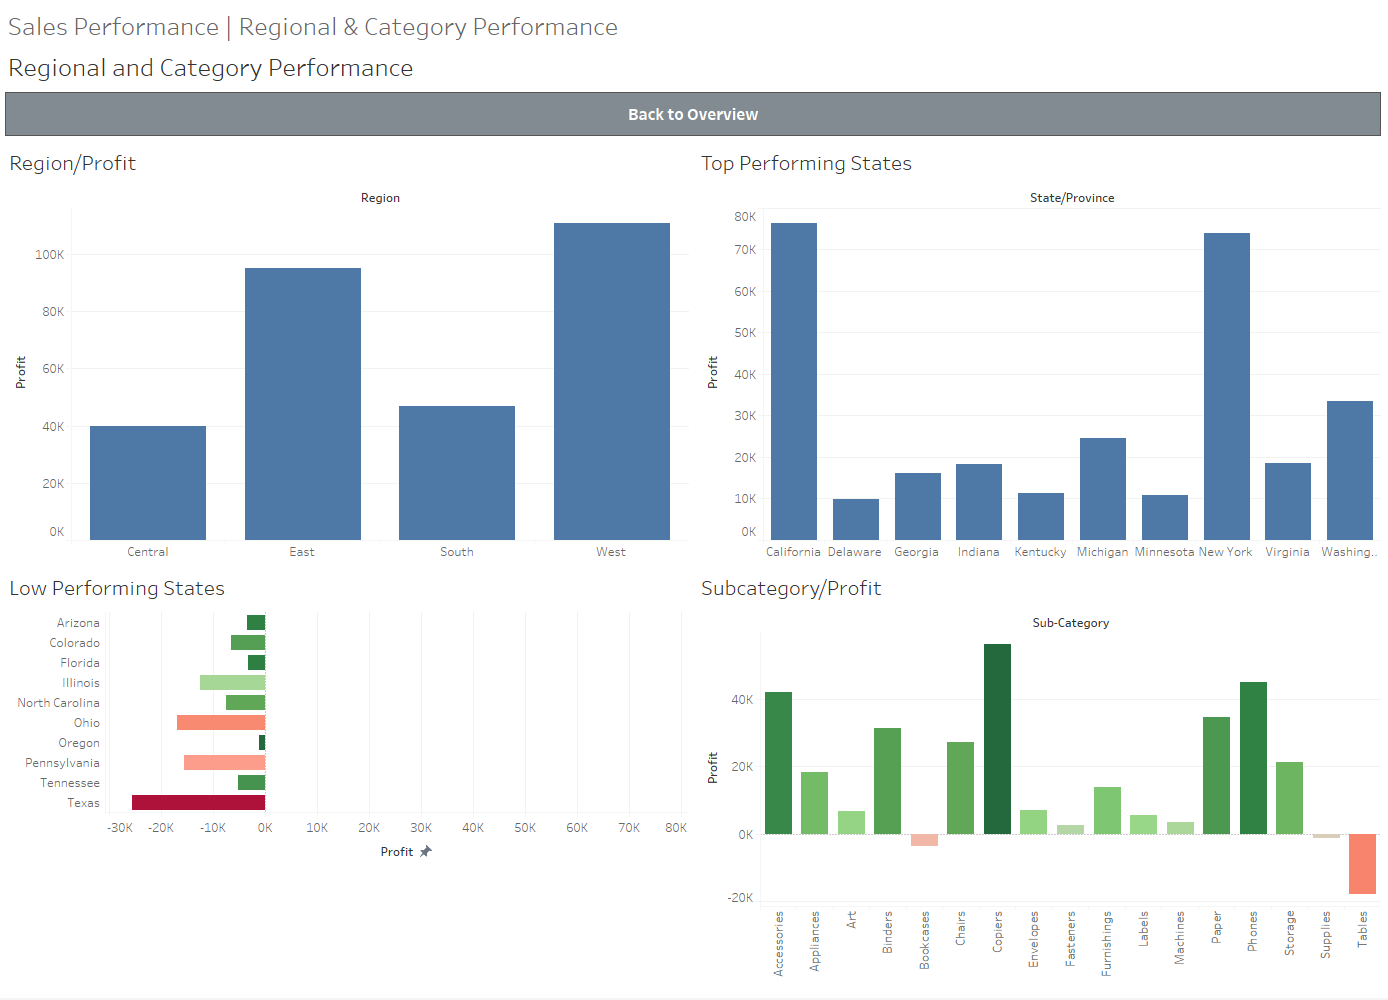

Layout of this report page (visuals, bound fields, positions):
{"tool":"tableau","page":{"name":"Regional and Category Performance","canvas":[1400,1000],"ordinal":2},"visuals":[{"type":"text","box":[8,8,1384,61]},{"type":"dashboard-object","box":[8,69,1384,52]},{"type":"worksheet","title":"Region/Profit","mark":"Bar","rows":["Profit"],"cols":["Region"],"box":[8,121,692,435.5]},{"type":"worksheet","title":"Top Performing States","mark":"Bar","rows":["Profit"],"cols":["State/Province"],"box":[700,121,692,435.5]},{"type":"worksheet","title":"Low Performing States","mark":"Bar","rows":["State/Province"],"cols":["Profit"],"box":[8,556.5,692,435.5]},{"type":"worksheet","title":"Subcategory/Profit","mark":"Bar","rows":["Profit"],"cols":["Sub-Category"],"box":[700,556.5,692,435.5]}]}

Visuals, with their boxes in screenshot pixels (x1, y1, x2, y2), scaled from the page's 1400x1000 canvas onto the 1388x1000 screenshot:
text: select_region(8, 8, 1380, 69)
dashboard-object: select_region(8, 69, 1380, 121)
"Region/Profit" worksheet (Bar marks): select_region(8, 121, 694, 556)
"Top Performing States" worksheet (Bar marks): select_region(694, 121, 1380, 556)
"Low Performing States" worksheet (Bar marks): select_region(8, 556, 694, 992)
"Subcategory/Profit" worksheet (Bar marks): select_region(694, 556, 1380, 992)
